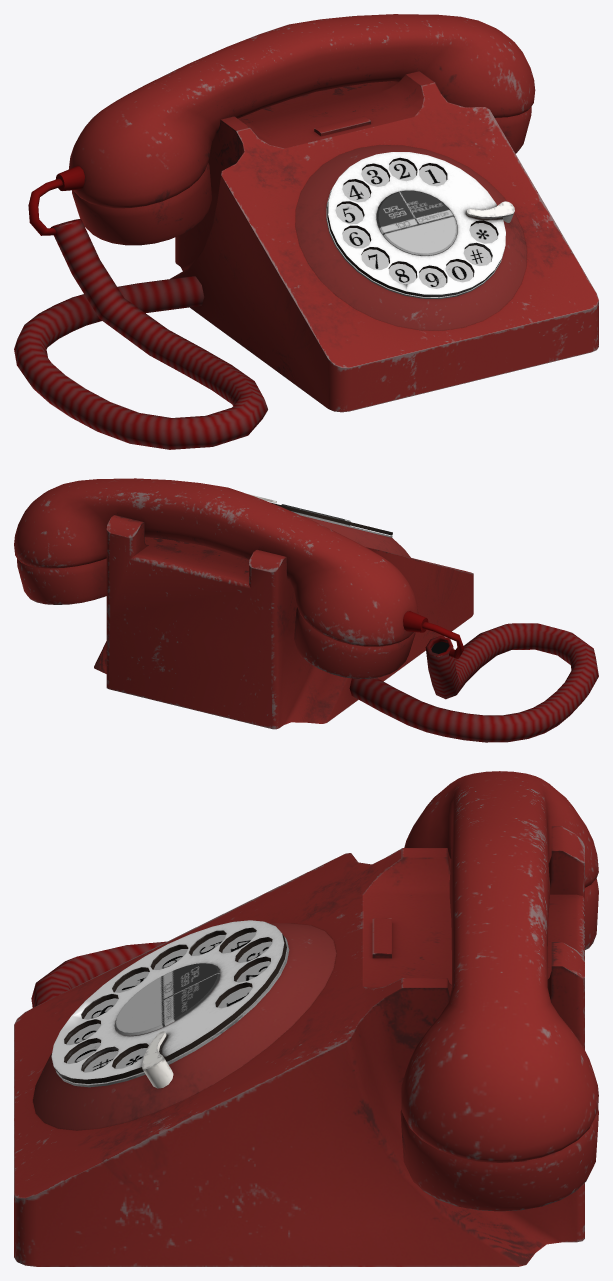
Rendered from RedTelephone.glb.
3 renders of one model, top to bottom at view 1: azimuth 30°, elevation 25°; view 2: azimuth 150°, elevation 25°; view 3: azimuth 270°, elevation 25°, orthographic. The views are drawn at different scales.
Parts seen in each view (by area): view 1: Cube, Cylinder_001; view 2: Cube, Cylinder_001; view 3: Cube, Cylinder_001.
Boxes of the visible parts, x1,y1,x2,y2 form: Cube: (14, 14, 598, 449); Cylinder_001: (327, 152, 505, 297); Cube: (14, 478, 598, 742); Cylinder_001: (270, 502, 392, 535); Cube: (14, 771, 598, 1266); Cylinder_001: (51, 920, 286, 1083).
Size of the model in its own units: 0.3121 by 0.1336 by 0.1982.
2 materials, 2 textured.
